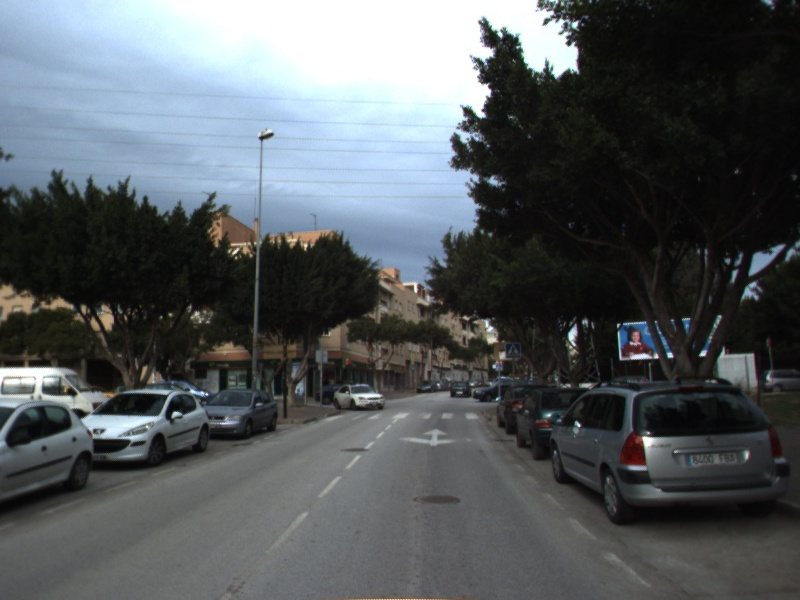STRAIGHT_LEFT_RIGHT: (396, 426, 474, 448)
